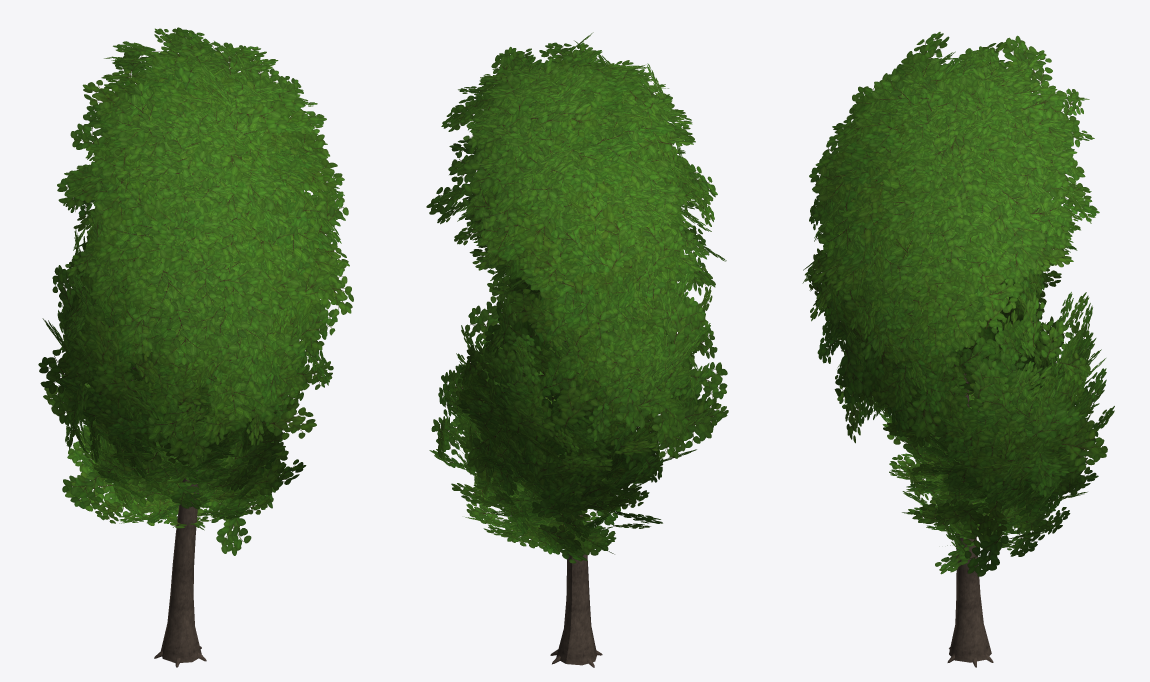
The model's file is tree_linden_b.glb.
The picture shows the model from 3 angles, left to right: view 1: azimuth 30°, elevation 25°; view 2: azimuth 150°, elevation 25°; view 3: azimuth 270°, elevation 25°; orthographic projection.
Parts seen in each view (by area): view 1: tree_linden_b; view 2: tree_linden_b; view 3: tree_linden_b.
Boxes of the visible parts, x1,y1,x2,y2 form: tree_linden_b: (38, 27, 353, 667); tree_linden_b: (426, 32, 728, 667); tree_linden_b: (802, 32, 1114, 667).
Bounding box in the file's own units: 9.89 × 19.5 × 10.09.
2 materials, 2 textured.
